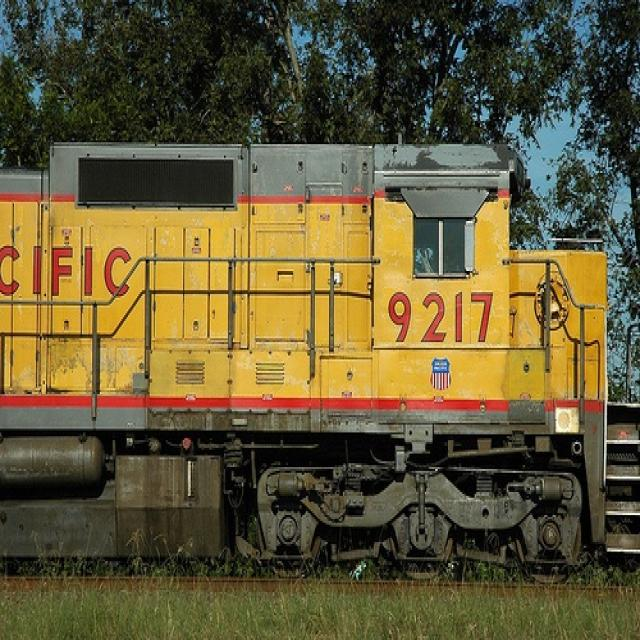train: (2, 133, 638, 584)
